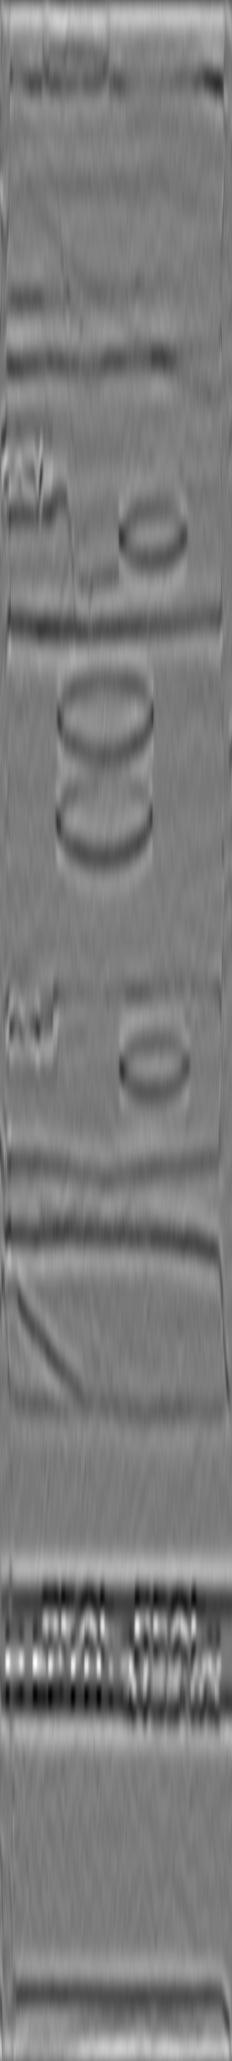hplug: (110, 1024, 197, 1101), (111, 492, 191, 573)
scal: (52, 662, 159, 765), (48, 772, 159, 869)
vplug: (1, 475, 83, 637), (34, 1, 121, 71)
